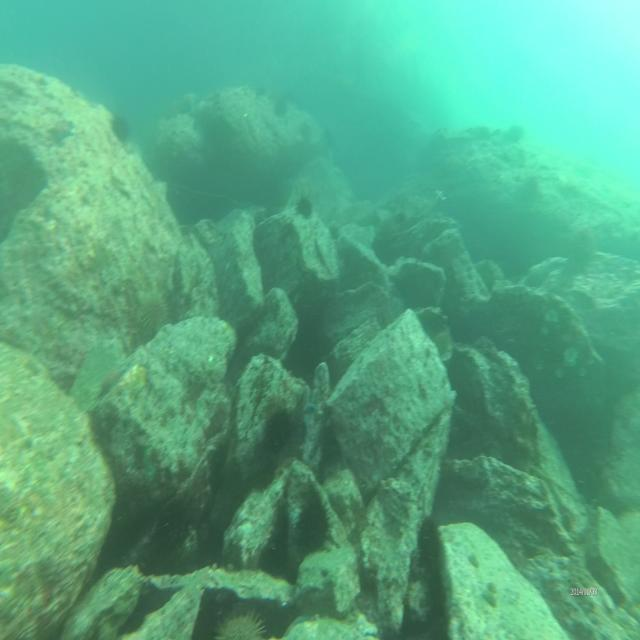echinus: (136, 293, 168, 338), (294, 191, 314, 223), (110, 113, 131, 143), (273, 90, 289, 121)
starfish: (48, 112, 73, 146)
